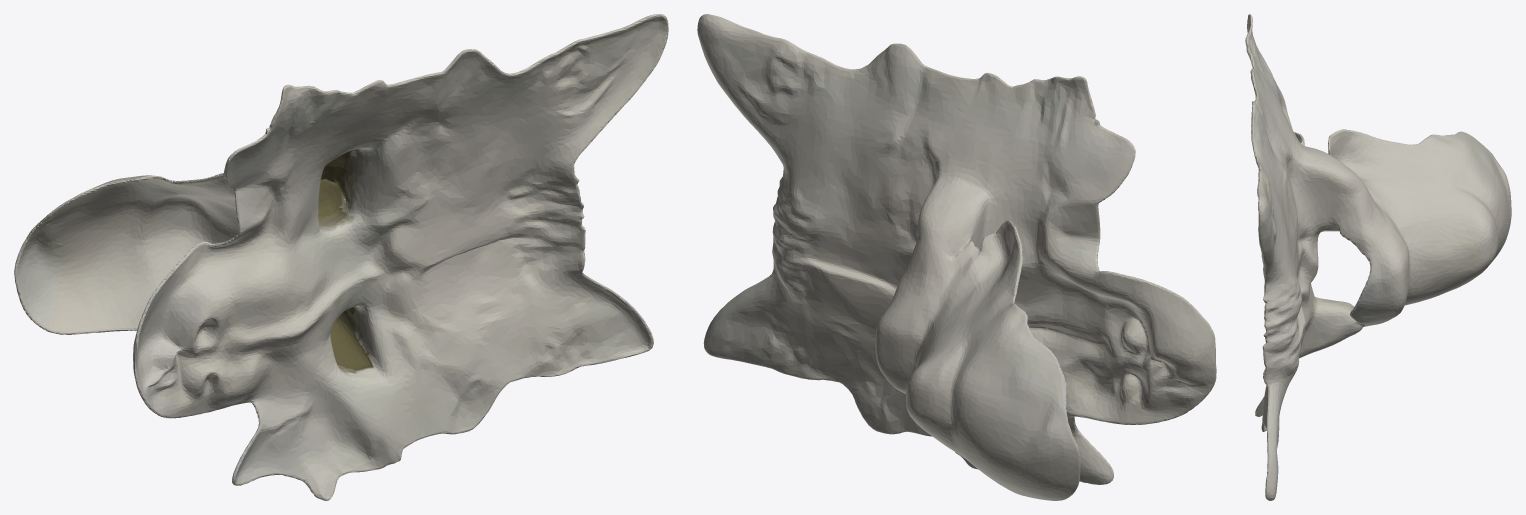
Rendered from silver-fox.glb.
3 views of the same model, side by side, from view 1: azimuth 30°, elevation 25°; view 2: azimuth 150°, elevation 25°; view 3: azimuth 270°, elevation 25° (orthographic). The views are drawn at different scales.
Visible parts, largest first — view 1: silver fox_textured.obj; view 2: silver fox_textured.obj; view 3: silver fox_textured.obj.
Boxes of the visible parts, x1,y1,x2,y2 form: silver fox_textured.obj: (14, 14, 668, 500); silver fox_textured.obj: (697, 14, 1216, 500); silver fox_textured.obj: (1245, 14, 1511, 500).
Size of the model in its own units: 1.99 by 1.54 by 0.9699.
Materials: 1 (1 with a texture image).
